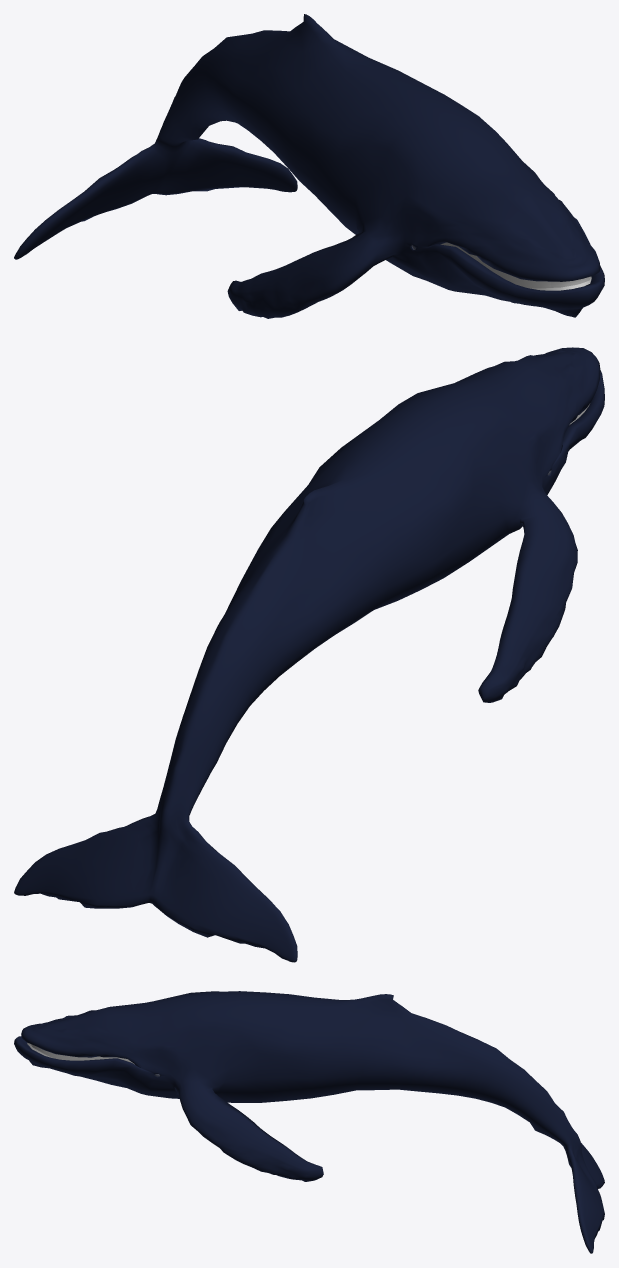
Rendered from whale_animation05.obj.
3 renders of one model, top to bottom at view 1: azimuth 30°, elevation 25°; view 2: azimuth 150°, elevation 25°; view 3: azimuth 270°, elevation 25°, orthographic. The views are drawn at different scales.
Parts seen in each view (by area): view 1: Whale, Barbs; view 2: Whale; view 3: Whale, Barbs.
Boxes of the visible parts, box(x1,y1,x2,y2) form: Whale: box(14, 14, 604, 318); Barbs: box(440, 242, 591, 290); Whale: box(14, 347, 604, 962); Whale: box(14, 991, 604, 1253); Barbs: box(27, 1043, 134, 1064).
Bounding box in the file's own units: 6.22 × 6.78 × 16.93.
